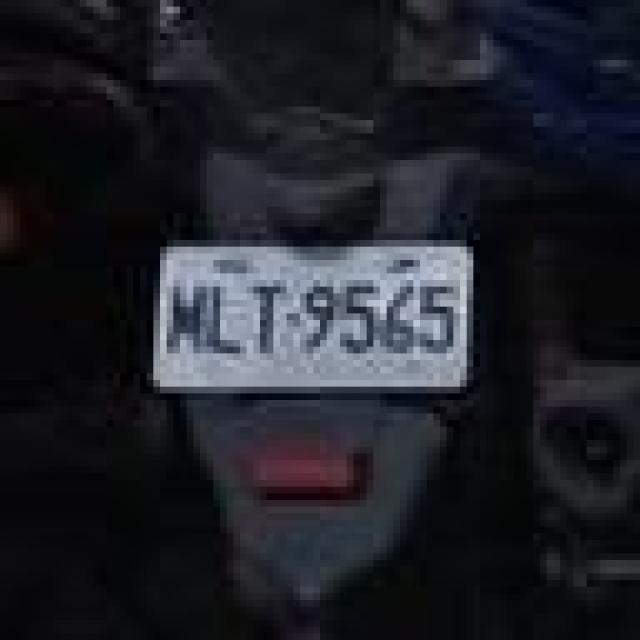W: (140, 207, 487, 413)
